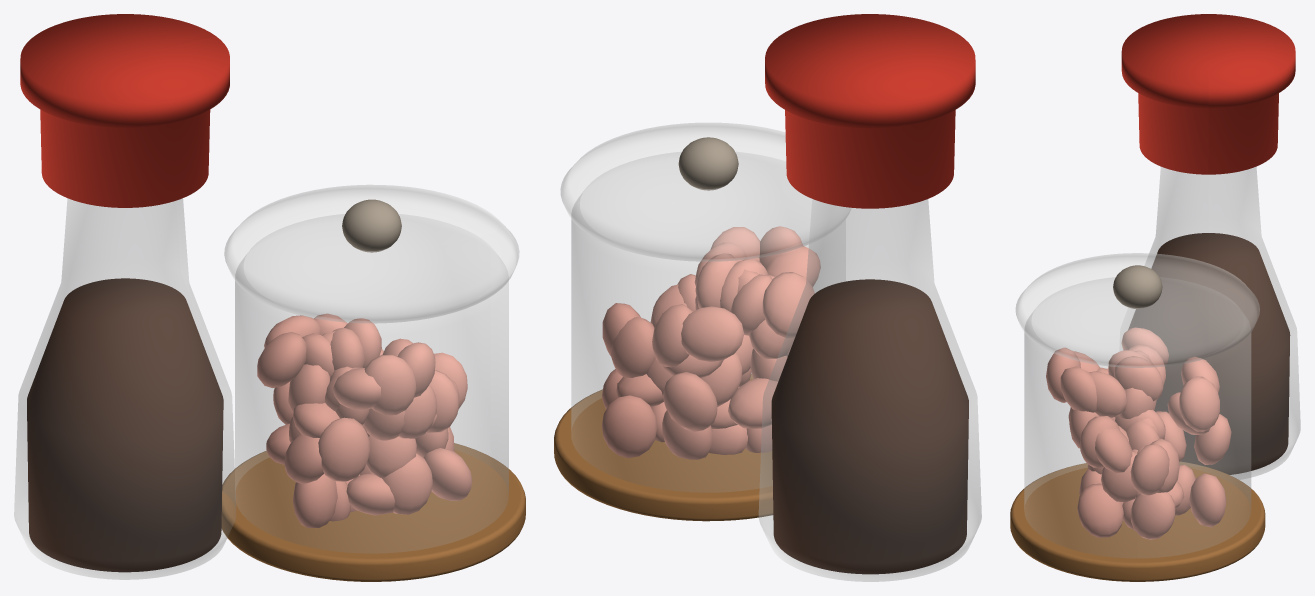
Rendered from condiments.glb.
The picture shows the model from 3 angles, left to right: view 1: azimuth 30°, elevation 25°; view 2: azimuth 150°, elevation 25°; view 3: azimuth 270°, elevation 25°; orthographic projection. The views are drawn at different scales.
Visible parts, largest first — view 1: Soy bottle glass, Ginger glass jar, Soy inside bottle, Soy red cap, Jar glass lid, Ginger wooden tray, Individual ginger curl.043, Jar lid knob, Individual ginger curl.027, Individual ginger curl.010, Individual ginger curl.025, Individual ginger curl.011 (+17 smaller); view 2: Soy bottle glass, Ginger glass jar, Soy inside bottle, Soy red cap, Jar glass lid, Ginger wooden tray, Individual ginger curl.019, Individual ginger curl.015, Jar lid knob, Individual ginger curl.036, Individual ginger curl.010, Individual ginger curl.048 (+19 smaller); view 3: Ginger glass jar, Soy inside bottle, Soy red cap, Jar glass lid, Soy bottle glass, Ginger wooden tray, Individual ginger curl.030, Individual ginger curl.009, Individual ginger curl.053, Jar lid knob, Individual ginger curl.035, Individual ginger curl.015 (+19 smaller).
Part boxes in pixels (bbox=[...]): Soy bottle glass: bbox=[14, 198, 235, 579]; Ginger glass jar: bbox=[235, 251, 508, 553]; Soy inside bottle: bbox=[27, 278, 223, 572]; Soy red cap: bbox=[20, 14, 229, 207]; Jar glass lid: bbox=[224, 185, 519, 323]; Ginger wooden tray: bbox=[221, 443, 525, 581]; Individual ginger curl.043: bbox=[318, 417, 370, 481]; Jar lid knob: bbox=[342, 199, 401, 252]; Individual ginger curl.027: bbox=[364, 354, 416, 415]; Individual ginger curl.010: bbox=[257, 332, 306, 387]; Individual ginger curl.025: bbox=[382, 453, 432, 514]; Individual ginger curl.011: bbox=[293, 473, 337, 527]; Soy bottle glass: bbox=[759, 199, 981, 581]; Ginger glass jar: bbox=[571, 190, 845, 492]; Soy inside bottle: bbox=[771, 279, 968, 574]; Soy red cap: bbox=[765, 14, 975, 208]; Jar glass lid: bbox=[560, 123, 850, 261]; Ginger wooden tray: bbox=[554, 374, 773, 521]; Individual ginger curl.019: bbox=[681, 306, 744, 361]; Individual ginger curl.015: bbox=[601, 395, 657, 457]; Jar lid knob: bbox=[678, 137, 738, 190]; Individual ginger curl.036: bbox=[663, 372, 717, 431]; Individual ginger curl.010: bbox=[762, 272, 814, 337]; Individual ginger curl.048: bbox=[611, 317, 655, 377]; Ginger glass jar: bbox=[1024, 309, 1250, 557]; Soy inside bottle: bbox=[1128, 233, 1290, 474]; Soy red cap: bbox=[1121, 14, 1295, 174]; Jar glass lid: bbox=[1016, 253, 1259, 367]; Soy bottle glass: bbox=[1145, 167, 1300, 479]; Ginger wooden tray: bbox=[1010, 461, 1265, 581]; Individual ginger curl.030: bbox=[1077, 483, 1123, 537]; Individual ginger curl.009: bbox=[1179, 376, 1219, 431]; Individual ginger curl.053: bbox=[1131, 492, 1175, 539]; Jar lid knob: bbox=[1113, 265, 1162, 309]; Individual ginger curl.035: bbox=[1130, 444, 1169, 495]; Individual ginger curl.015: bbox=[1189, 473, 1226, 527].
Size of the model in its own units: 2.34 by 2.47 by 1.64.
